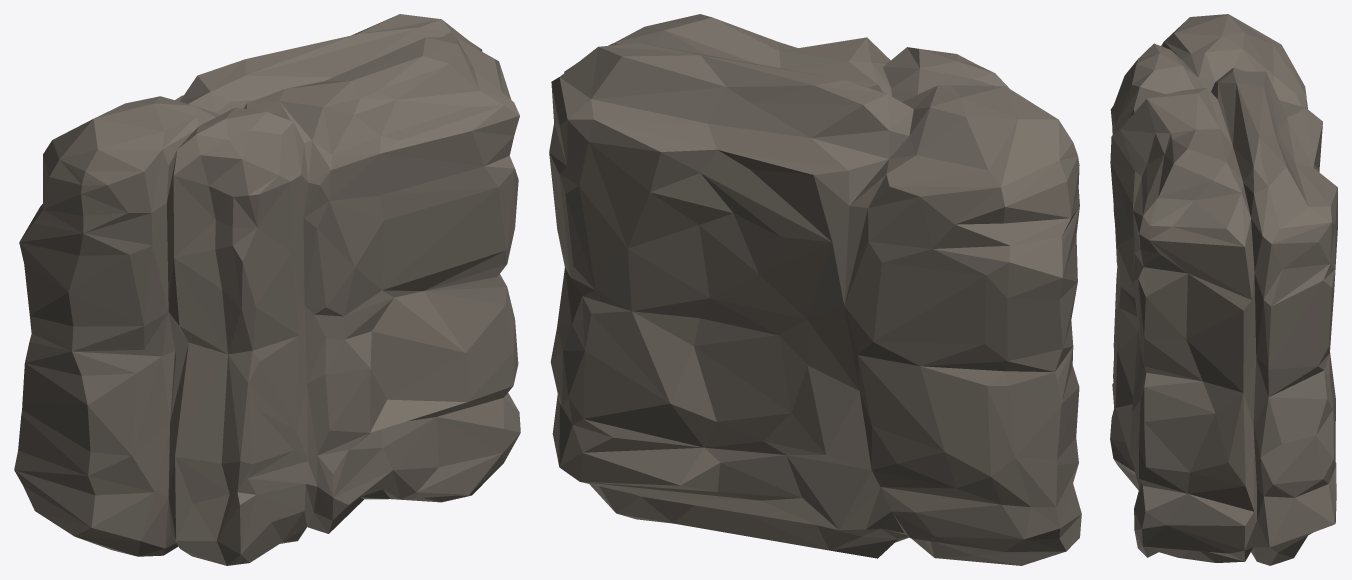
Rendered from SM_Env_Rock_Large_011.glb.
3 renders of one model, left to right at view 1: azimuth 30°, elevation 25°; view 2: azimuth 150°, elevation 25°; view 3: azimuth 270°, elevation 25°, orthographic. The views are drawn at different scales.
Visible parts, largest first — view 1: SM_Env_Rock_Large_011_part00; view 2: SM_Env_Rock_Large_011_part00; view 3: SM_Env_Rock_Large_011_part00.
Boxes of the visible parts, x1,y1,x2,y2 form: SM_Env_Rock_Large_011_part00: (14,14,520,565); SM_Env_Rock_Large_011_part00: (549,14,1081,565); SM_Env_Rock_Large_011_part00: (1110,14,1337,565).
Bounding box in the file's own units: 11.94 × 10.42 × 5.37.
Materials: 1 (1 with a texture image).
